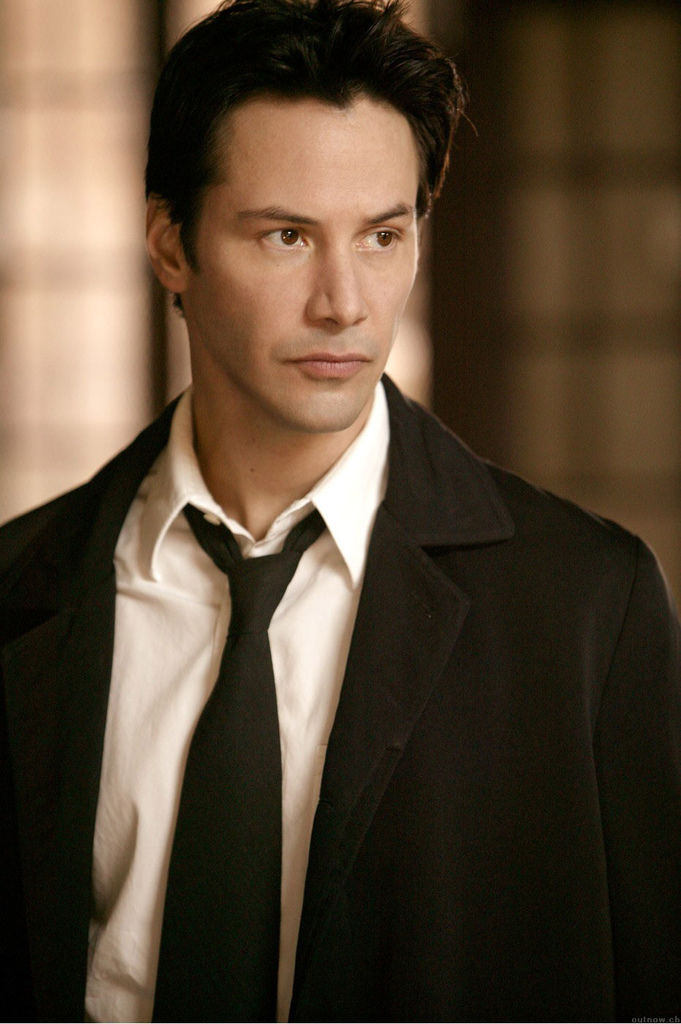person: (1, 1, 681, 1024)
